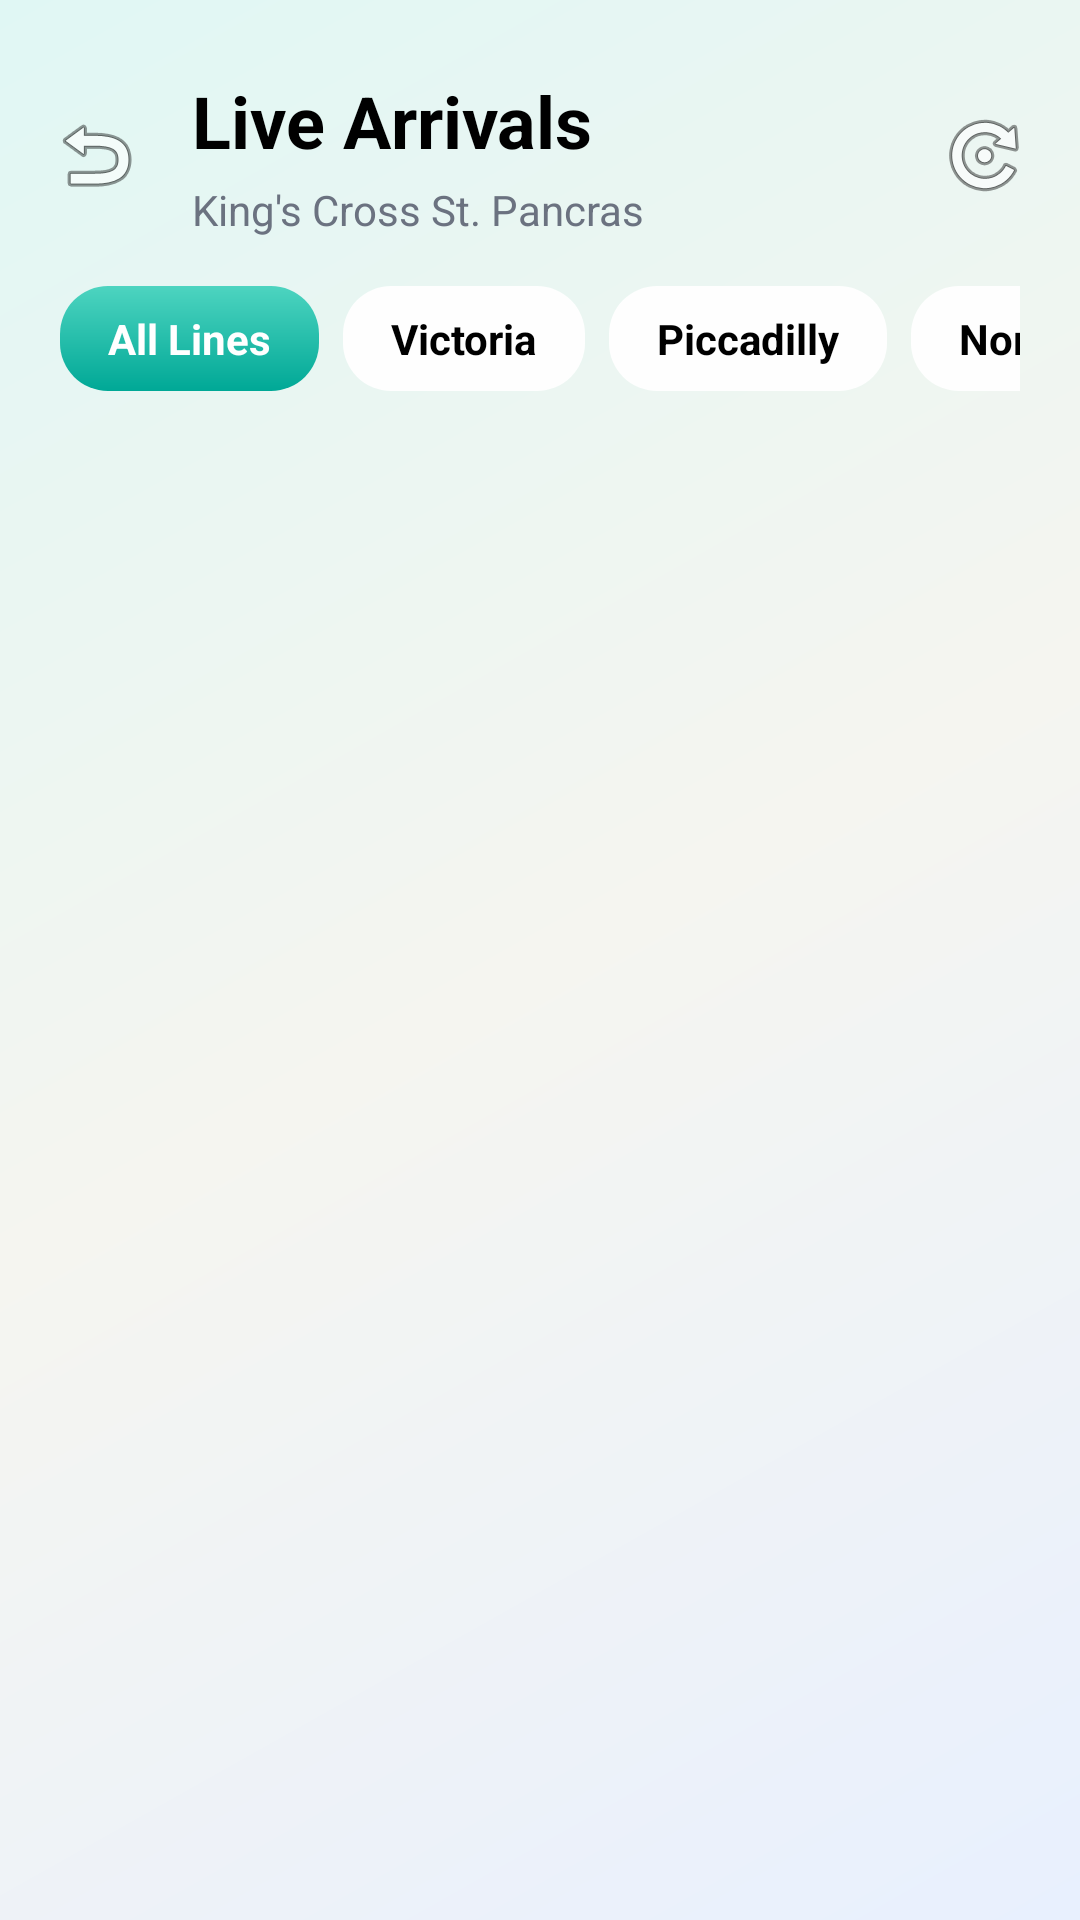

Icon click points for this 1080*1920 phone screenshot, format [x,y]:
Back: [97,155]
Refresh: [984,155]
